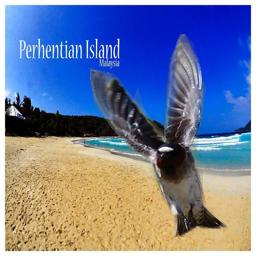Swallow: (90, 34, 228, 237)
